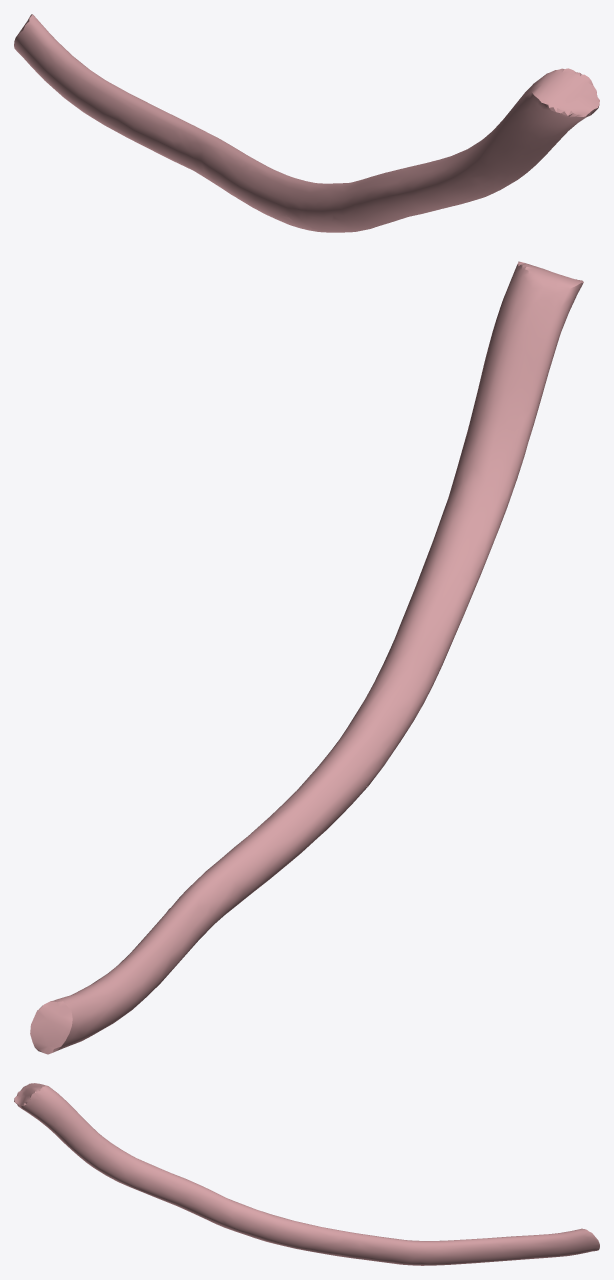
Rendered from fma78465-r_mm3064m.glb.
3 views of the same model, one above another, from view 1: azimuth 30°, elevation 25°; view 2: azimuth 150°, elevation 25°; view 3: azimuth 270°, elevation 25° (orthographic). The views are drawn at different scales.
Parts seen in each view (by area): view 1: FMA78465-R_MM3064M; view 2: FMA78465-R_MM3064M; view 3: FMA78465-R_MM3064M.
Part boxes in pixels (x1=…): FMA78465-R_MM3064M: x1=14, y1=14, x2=599, y2=232; FMA78465-R_MM3064M: x1=30, y1=261, x2=583, y2=1054; FMA78465-R_MM3064M: x1=14, y1=1083, x2=599, y2=1265.
Bounding box in the file's own units: 0.00267 × 0.00875 × 0.0243.
